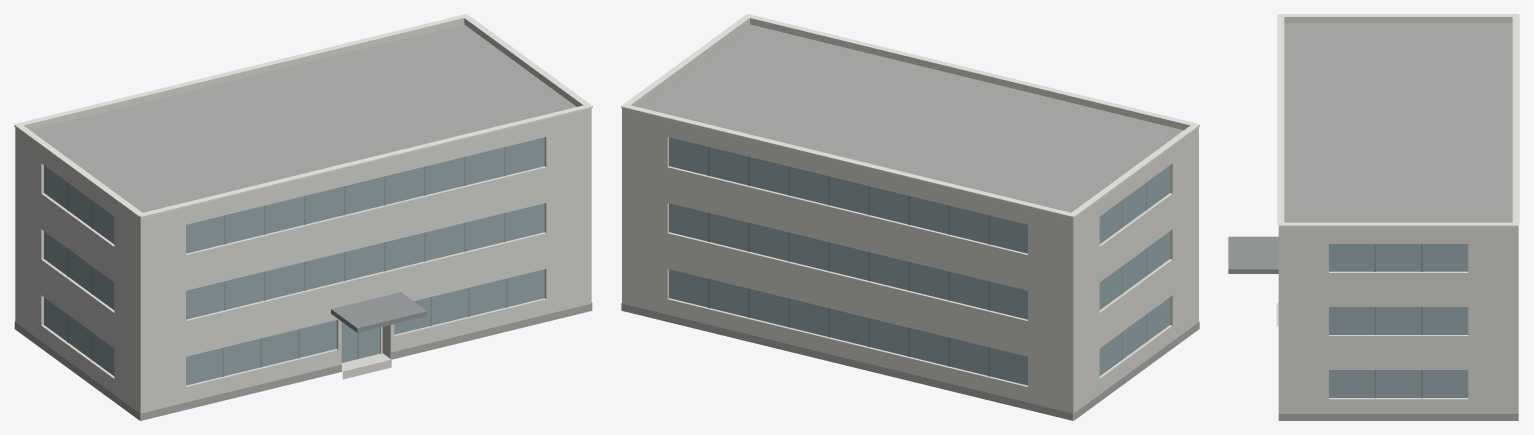
The picture shows the model from 3 angles, left to right: view 1: azimuth 30°, elevation 25°; view 2: azimuth 150°, elevation 25°; view 3: azimuth 270°, elevation 25°; orthographic projection. The views are drawn at different scales.
Visible parts, largest first — view 1: b1557353121__wall, b1557353121__roof, b1557353121__glass, b1557353121__parapet, b1557353121__trim, b1557353121__base, b1557353121__canopy, b1557353121__frame, b1557353121__entranceThreshold_0; view 2: b1557353121__wall, b1557353121__roof, b1557353121__glass, b1557353121__parapet, b1557353121__trim, b1557353121__base, b1557353121__frame; view 3: b1557353121__roof, b1557353121__wall, b1557353121__glass, b1557353121__trim, b1557353121__parapet, b1557353121__canopy, b1557353121__base, b1557353121__frame.
Part boxes in pixels (<box>): b1557353121__wall: <box>15,113,591,420</box>; b1557353121__roof: <box>30,24,576,420</box>; b1557353121__glass: <box>44,137,544,385</box>; b1557353121__parapet: <box>15,18,591,222</box>; b1557353121__trim: <box>14,14,592,218</box>; b1557353121__base: <box>14,303,592,420</box>; b1557353121__canopy: <box>331,292,427,332</box>; b1557353121__frame: <box>67,147,507,376</box>; b1557353121__entranceThreshold_0: <box>341,353,391,379</box>; b1557353121__wall: <box>622,112,1198,420</box>; b1557353121__roof: <box>637,24,1183,420</box>; b1557353121__glass: <box>669,137,1169,385</box>; b1557353121__parapet: <box>622,18,1198,222</box>; b1557353121__trim: <box>621,14,1199,218</box>; b1557353121__base: <box>621,303,1199,420</box>; b1557353121__frame: <box>708,147,1146,376</box>; b1557353121__roof: <box>1284,23,1512,222</box>; b1557353121__wall: <box>1278,231,1518,413</box>; b1557353121__glass: <box>1329,244,1468,397</box>; b1557353121__trim: <box>1277,14,1519,227</box>; b1557353121__parapet: <box>1278,17,1518,231</box>; b1557353121__canopy: <box>1228,236,1278,273</box>; b1557353121__base: <box>1278,414,1518,420</box>; b1557353121__frame: <box>1374,244,1422,398</box>.
Bounding box in the file's own units: 25.9 × 11.55 × 15.07.
